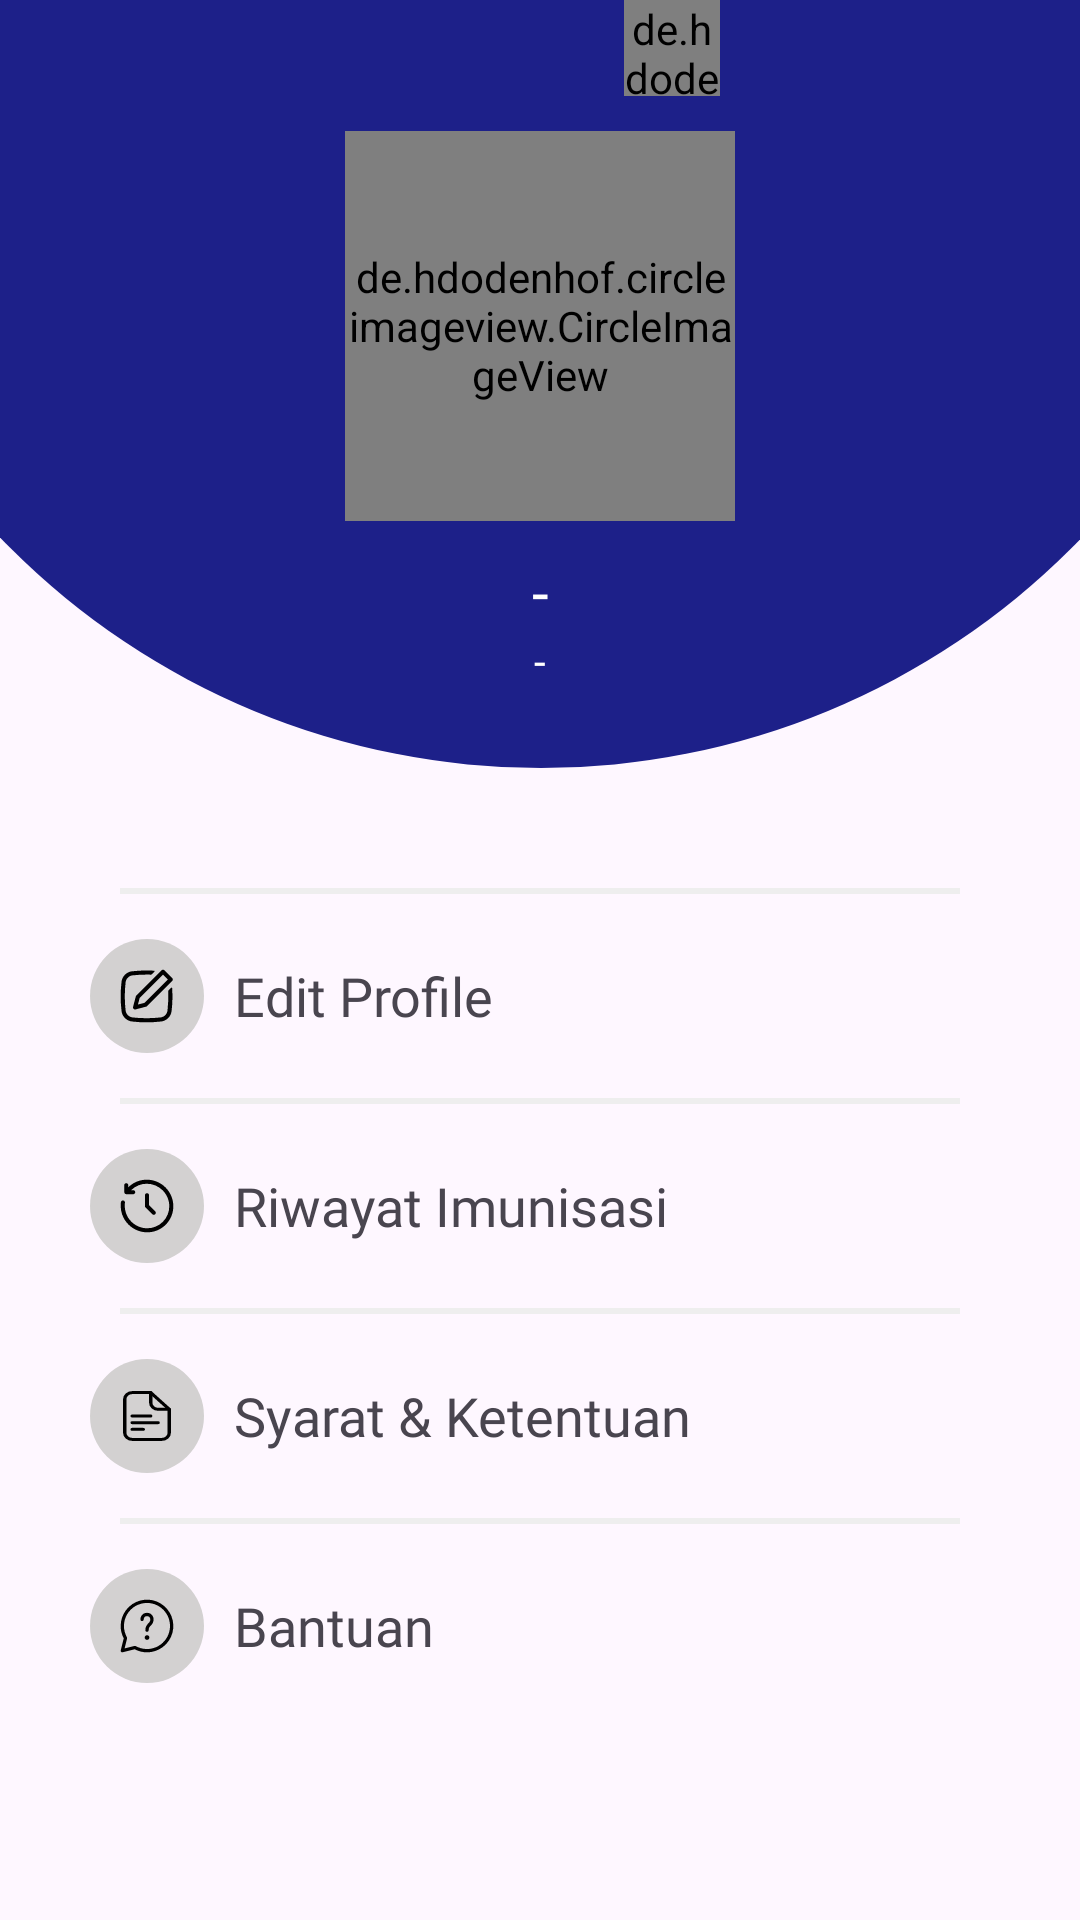

Icon click points for this 1080×1920 phone screenshot, format (x=x, y=y):
document: (x=147, y=1416)
help: (x=147, y=1626)
history: (x=147, y=1206)
